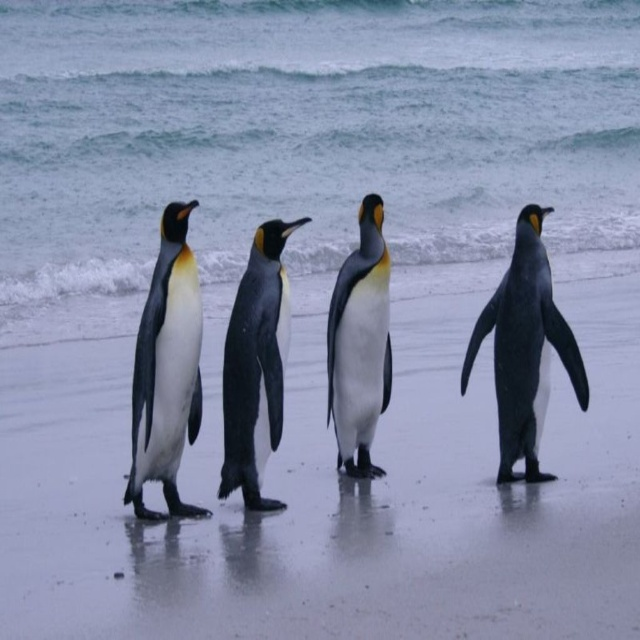Penguin: (462, 201, 591, 483), (123, 187, 214, 524), (213, 207, 310, 521), (326, 186, 398, 483)
